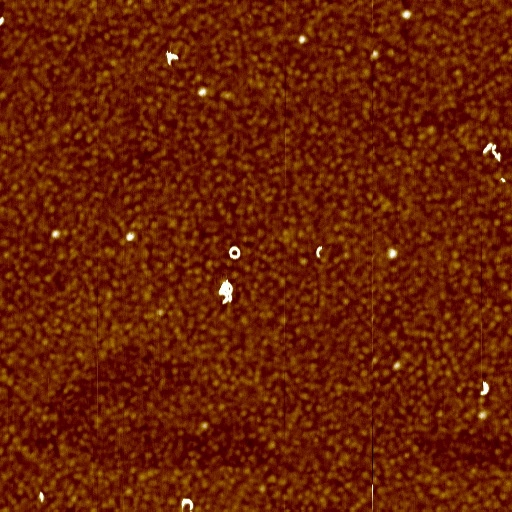-1: (217, 278, 238, 303), (491, 140, 503, 165), (481, 138, 495, 156), (296, 33, 308, 45), (399, 9, 411, 19), (126, 231, 136, 243), (50, 228, 60, 240), (39, 492, 48, 505), (388, 247, 398, 258), (198, 86, 208, 97), (0, 14, 6, 25)
1/4: (479, 379, 491, 397), (314, 244, 325, 260)
2/4: (165, 51, 181, 65)
3/4: (179, 497, 199, 512)
4/4: (228, 243, 242, 261)
